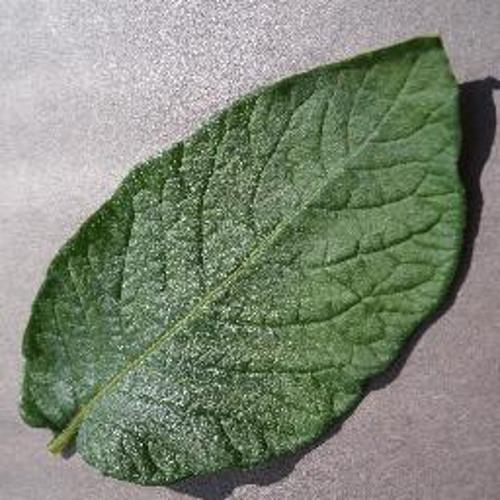Potato: (20, 36, 465, 485)
